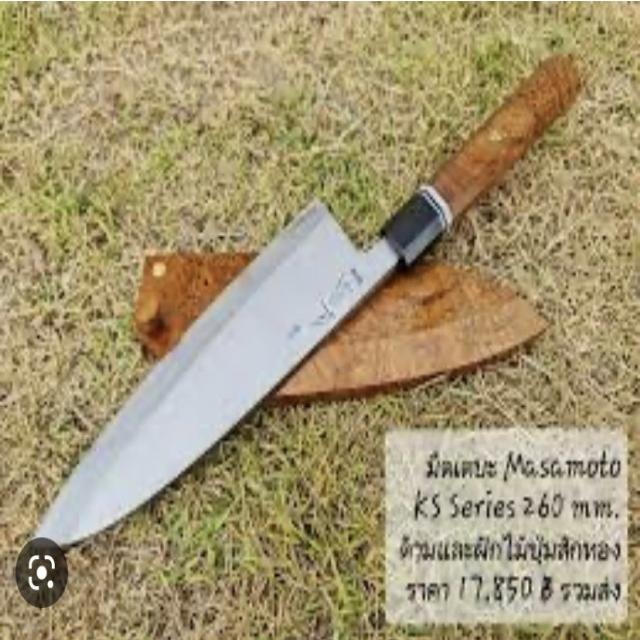Knife: (28, 21, 624, 571)
